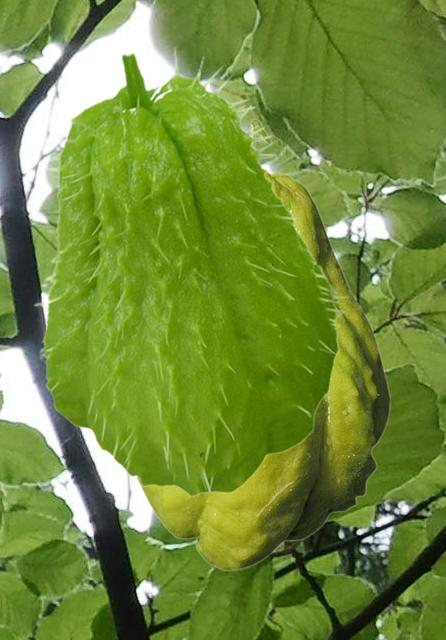sayote: (33, 46, 347, 496), (136, 118, 390, 570)
